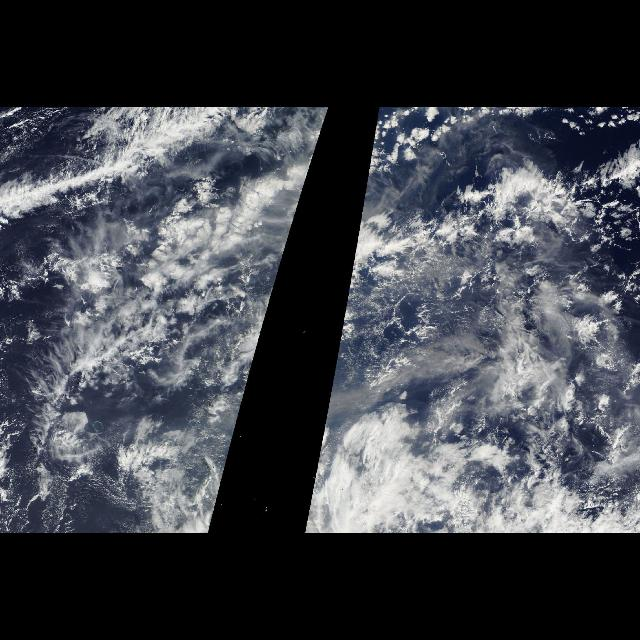Fish: (21, 140, 216, 462), (365, 152, 605, 266)
